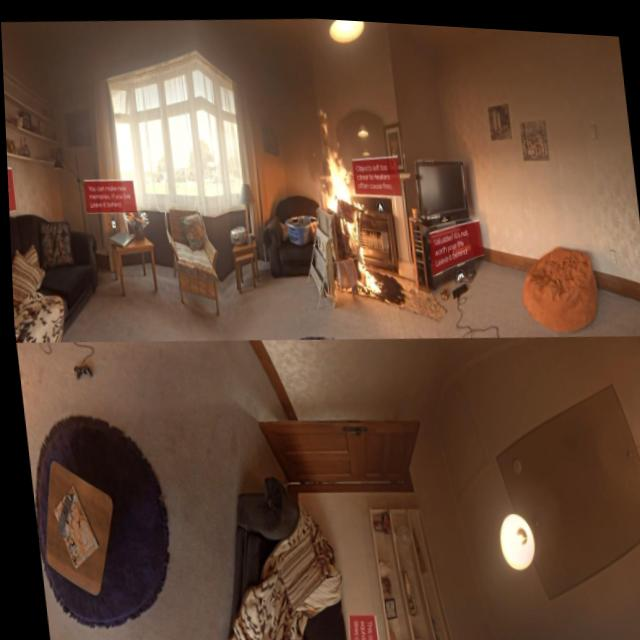fire: (315, 133, 358, 237), (351, 237, 381, 295)
